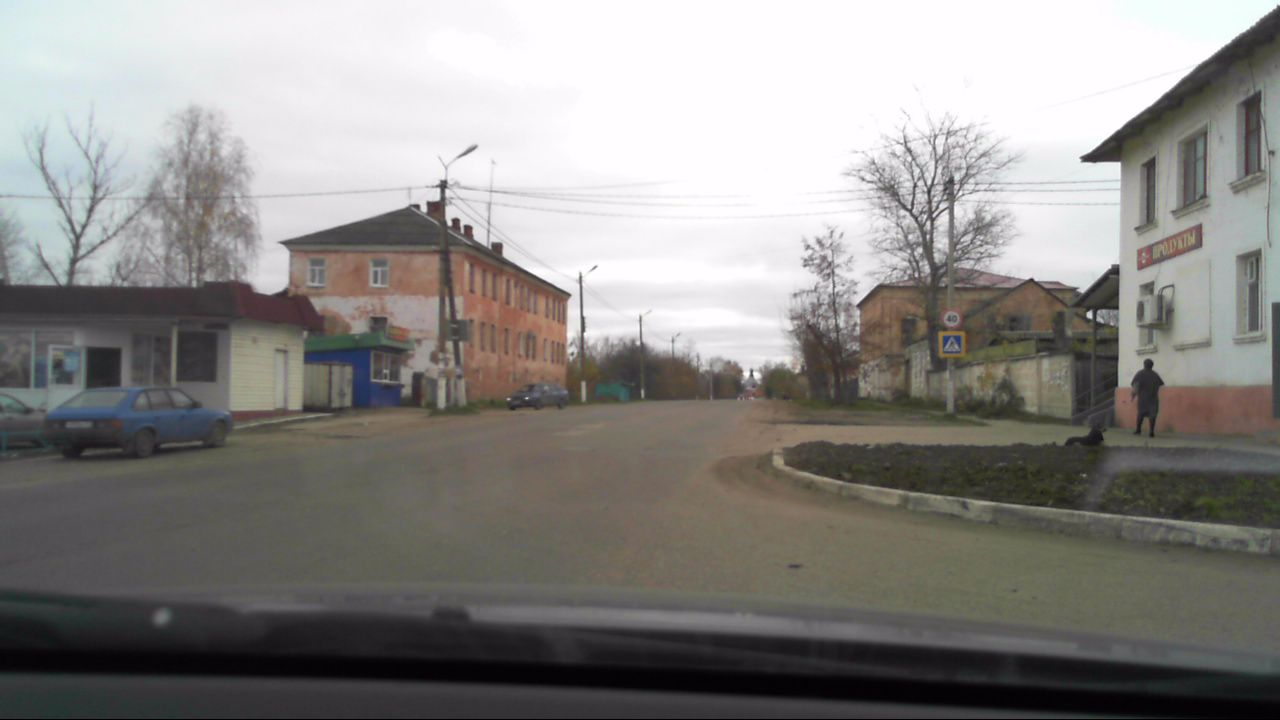speed_warning_40: (941, 309, 961, 329)
